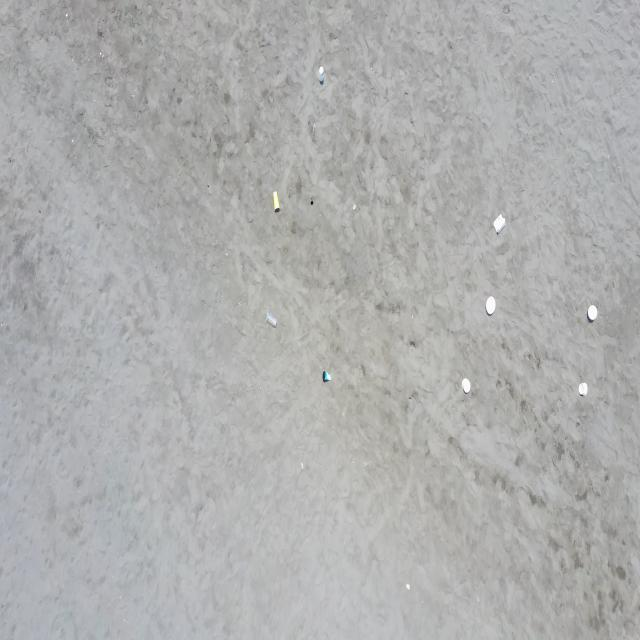take-away-containers: (493, 213, 506, 234), (486, 294, 496, 316), (587, 304, 598, 322), (462, 378, 471, 394), (579, 382, 588, 398)
takeaway-cup: (266, 310, 277, 328), (273, 190, 280, 212), (322, 370, 332, 383), (318, 65, 324, 83)
